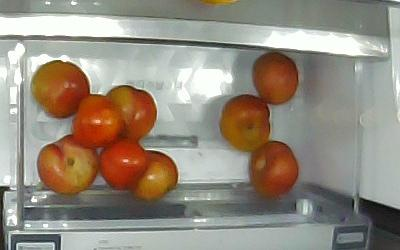prune: (37, 134, 98, 195), (32, 60, 90, 119), (220, 94, 272, 152), (104, 84, 157, 139), (72, 95, 125, 149), (250, 141, 298, 199), (99, 139, 149, 191), (253, 52, 298, 105), (130, 151, 178, 200)
